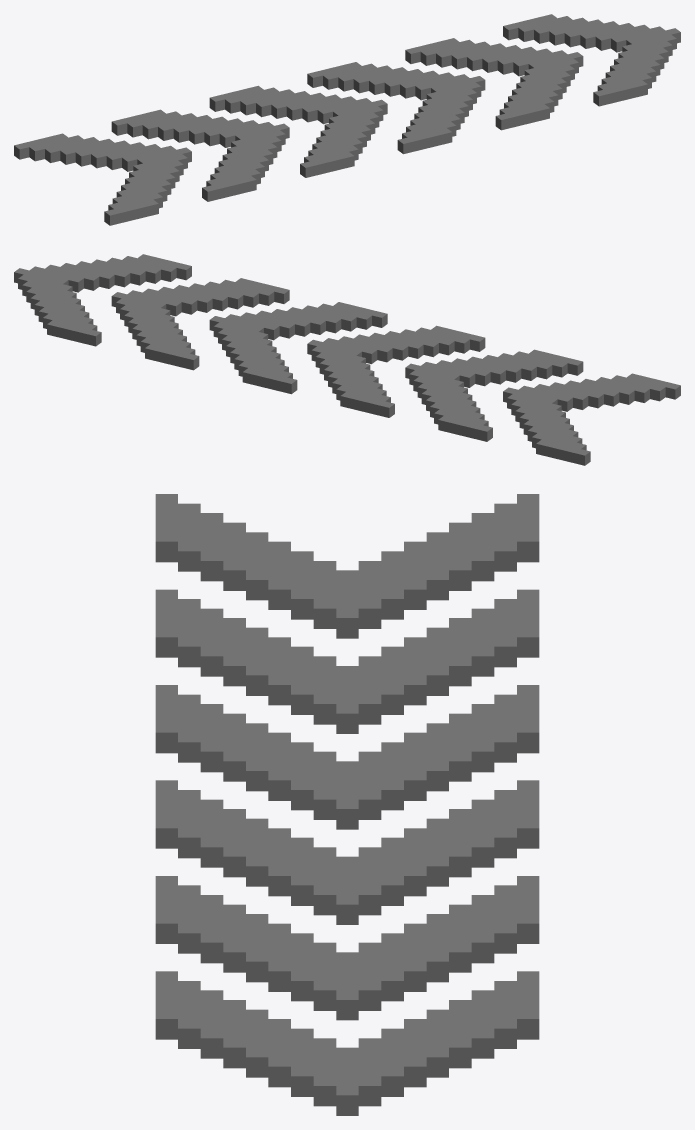
File: BoostPanel-1.obj
3 views of the same model, one above another, from view 1: azimuth 30°, elevation 25°; view 2: azimuth 150°, elevation 25°; view 3: azimuth 270°, elevation 25° (orthographic). The views are drawn at different scales.
Visible parts, largest first — view 1: BoostPanel-1; view 2: BoostPanel-1; view 3: BoostPanel-1.
Part boxes in pixels (x1,y1,x2,y2): BoostPanel-1: (14, 14, 680, 225); BoostPanel-1: (14, 254, 680, 465); BoostPanel-1: (155, 494, 539, 1115).
Bounding box in the file's own units: 63 × 1 × 17.
1 material, 1 textured.
